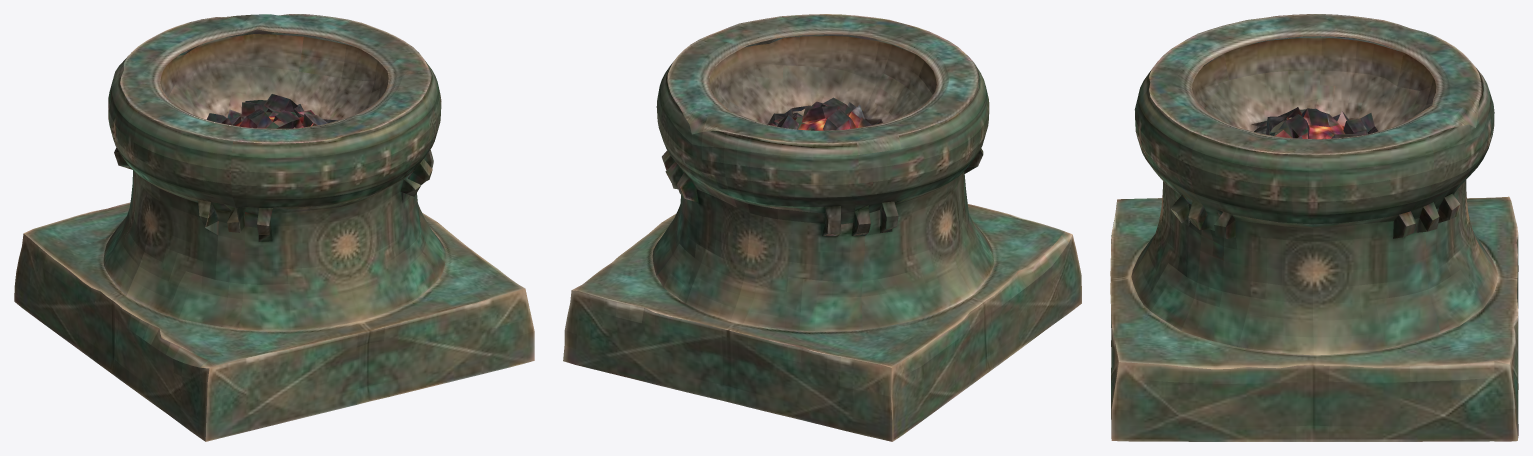
The model's file is p_cooperdrumfireholder.glb.
3 views of the same model, side by side, from view 1: azimuth 30°, elevation 25°; view 2: azimuth 150°, elevation 25°; view 3: azimuth 270°, elevation 25° (orthographic). The views are drawn at different scales.
Size of the model in its own units: 1.92 by 1.42 by 1.92.
1 material, 1 textured.
